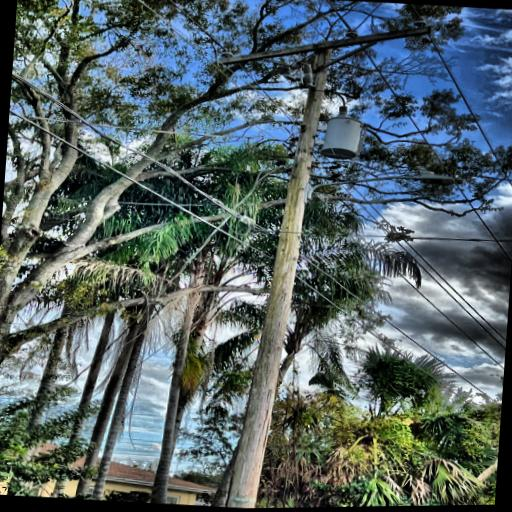pole: (191, 26, 348, 509)
transformer: (317, 112, 366, 162)
vegetation_encroachment: (144, 0, 484, 113)
